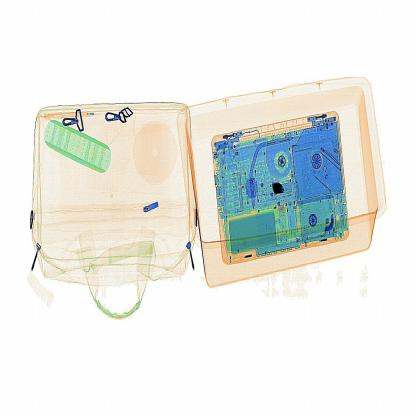scissors: (268, 177, 296, 203)
